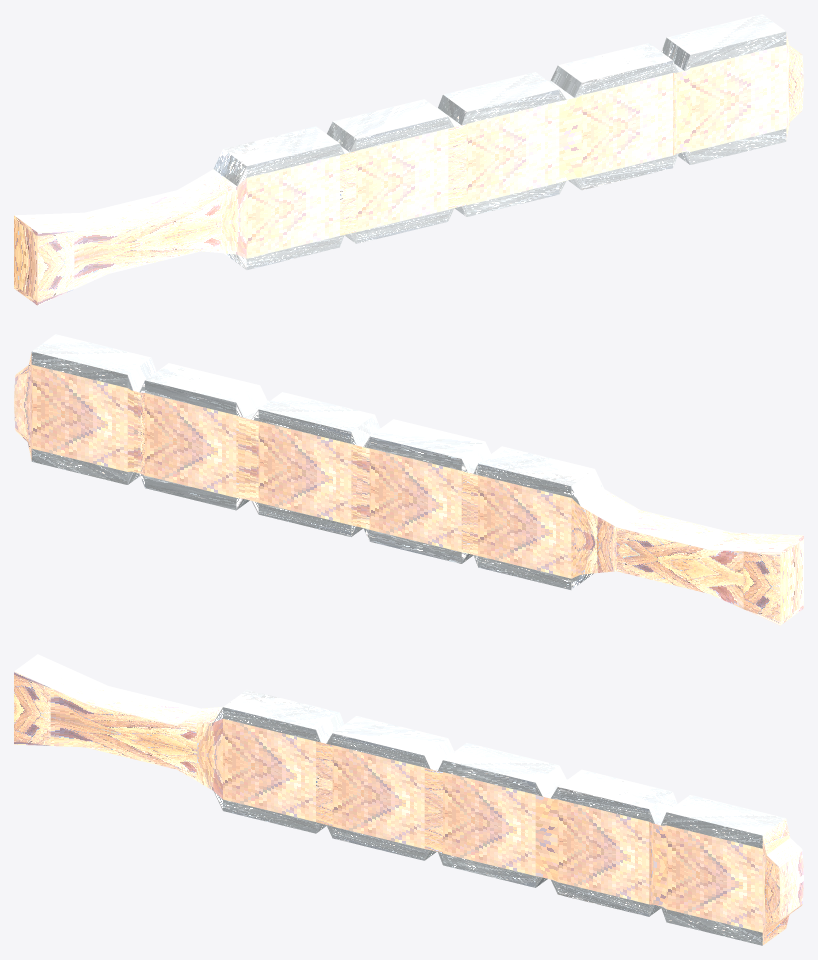
File: aztec blade.glb
3 renders of one model, top to bottom at view 1: azimuth 30°, elevation 25°; view 2: azimuth 150°, elevation 25°; view 3: azimuth 330°, elevation 25°, orthographic.
Visible parts, largest first — view 1: Cube; view 2: Cube; view 3: Cube.
Boxes of the visible parts, x1=… form: Cube: x1=14, y1=14, x2=803, y2=305; Cube: x1=14, y1=334, x2=803, y2=625; Cube: x1=14, y1=654, x2=803, y2=945.
Bounding box in the file's own units: 4.93 × 0.6772 × 0.2648.
